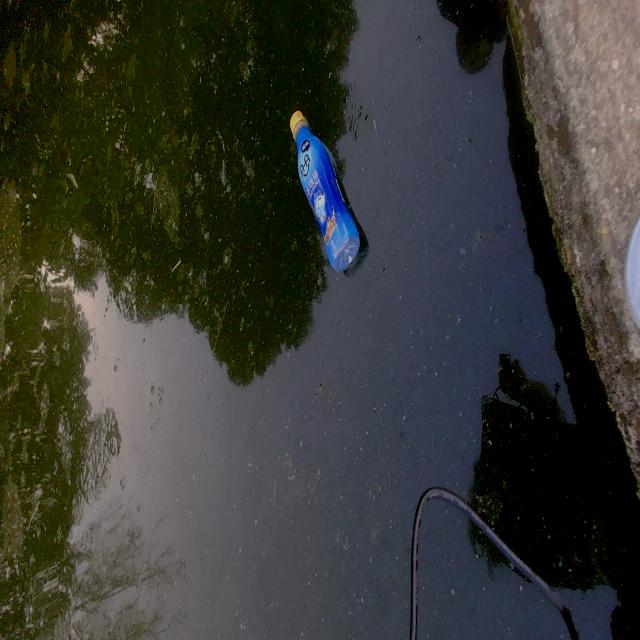bottle: (268, 80, 390, 310)
